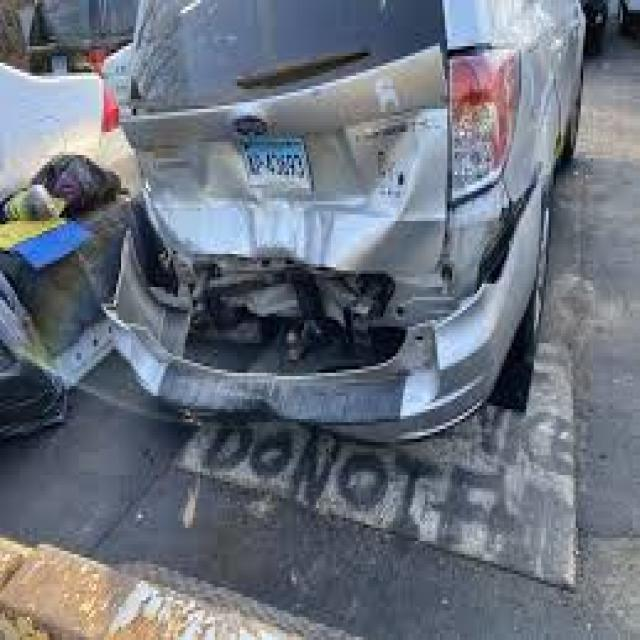damaged-trunk: (129, 0, 447, 274)
